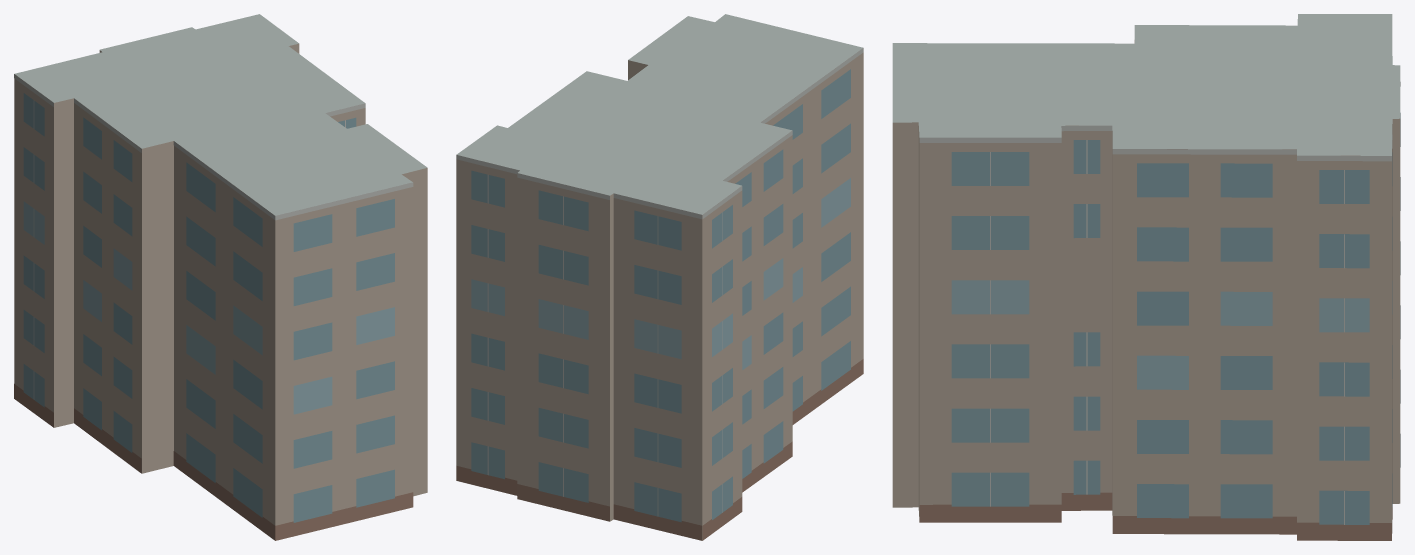
Rendered from survey-upis-32654975.glb.
3 views of the same model, side by side, from view 1: azimuth 30°, elevation 25°; view 2: azimuth 150°, elevation 25°; view 3: azimuth 270°, elevation 25° (orthographic). The views are drawn at different scales.
Parts seen in each view (by area): view 1: survey-upis-32654975.tmp; view 2: survey-upis-32654975.tmp; view 3: survey-upis-32654975.tmp.
Part boxes in pixels (box(x1,y1,x2,y2)): survey-upis-32654975.tmp: box(14, 14, 427, 540); survey-upis-32654975.tmp: box(456, 14, 863, 540); survey-upis-32654975.tmp: box(892, 14, 1400, 540).
Size of the model in its own units: 13.88 by 17.55 by 20.99.
